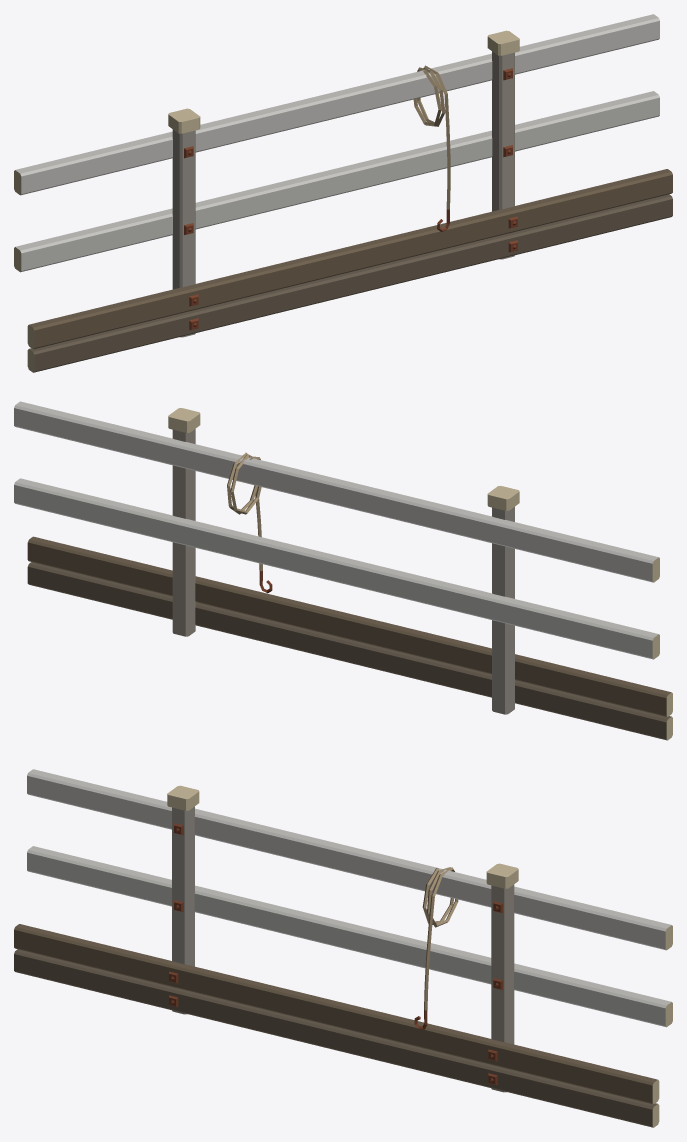
The model's file is boardwalk-railing-run-4851f1.glb.
3 views of the same model, one above another, from view 1: azimuth 30°, elevation 25°; view 2: azimuth 150°, elevation 25°; view 3: azimuth 330°, elevation 25° (orthographic).
Visible parts, largest first — view 1: railing, crab-line-cord; view 2: railing, crab-line-cord; view 3: railing, crab-line-cord.
Part boxes in pixels (box(x1,y1,x2,y2)): railing: box(14, 14, 672, 372); crab-line-cord: box(413, 65, 450, 231); railing: box(14, 401, 672, 740); crab-line-cord: box(227, 452, 272, 593); railing: box(14, 769, 672, 1127); crab-line-cord: box(414, 867, 458, 1029).
Bounding box in the file's own units: 4 × 1.3 × 0.368.
